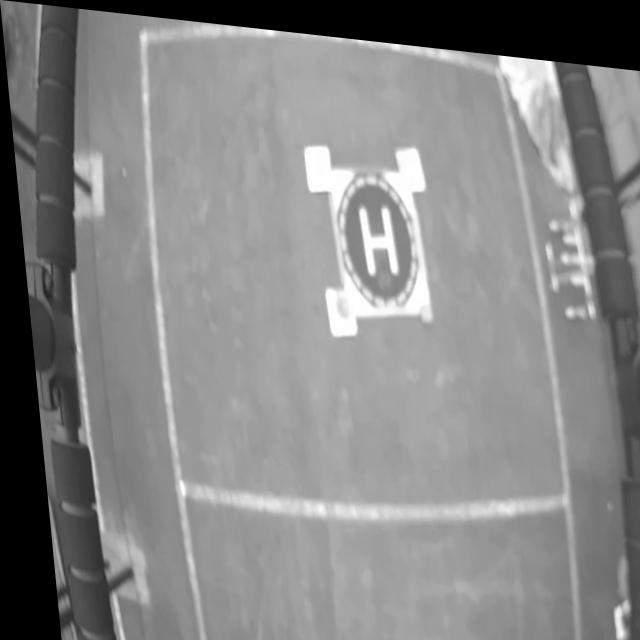Helipad: (354, 197, 395, 269)
